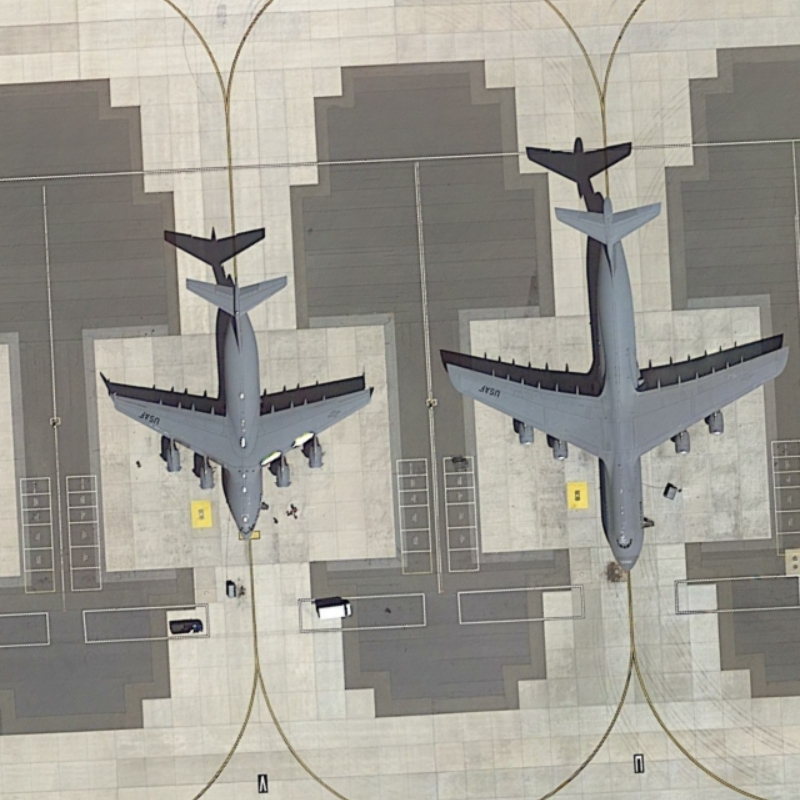A3: (103, 265, 381, 552)
A4: (437, 186, 793, 588)
